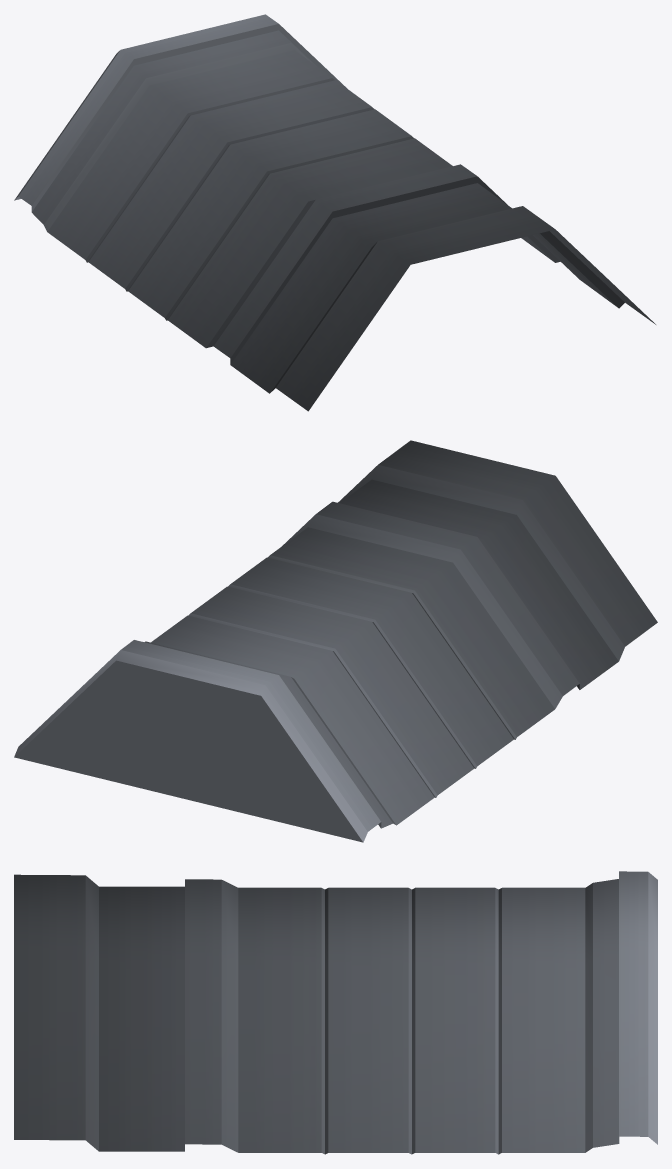
Rendered from Pillar 02.FBX.
3 renders of one model, top to bottom at view 1: azimuth 30°, elevation 25°; view 2: azimuth 150°, elevation 25°; view 3: azimuth 270°, elevation 25°, orthographic. The views are drawn at different scales.
Parts seen in each view (by area): view 1: Pillar 02; view 2: Pillar 02; view 3: Pillar 02.
Boxes of the visible parts, x1,y1,x2,y2 form: Pillar 02: (14, 14, 655, 411); Pillar 02: (14, 440, 657, 842); Pillar 02: (14, 871, 657, 1154).
Size of the model in its own units: 200 by 75.66 by 292.
